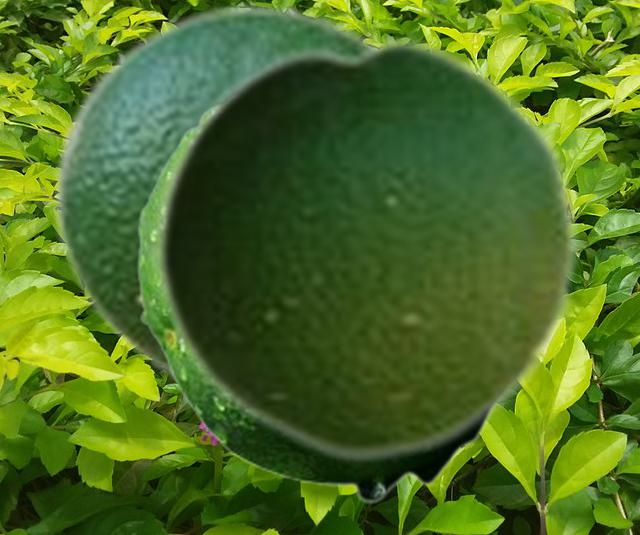dalandan: (151, 30, 581, 466), (136, 125, 492, 504), (51, 2, 379, 389)
